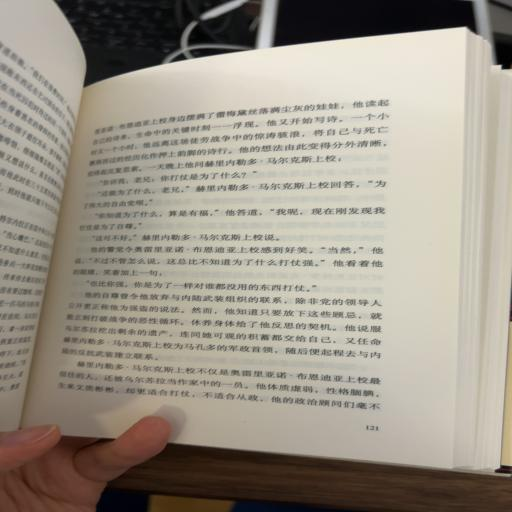paper: (41, 69, 471, 432)
